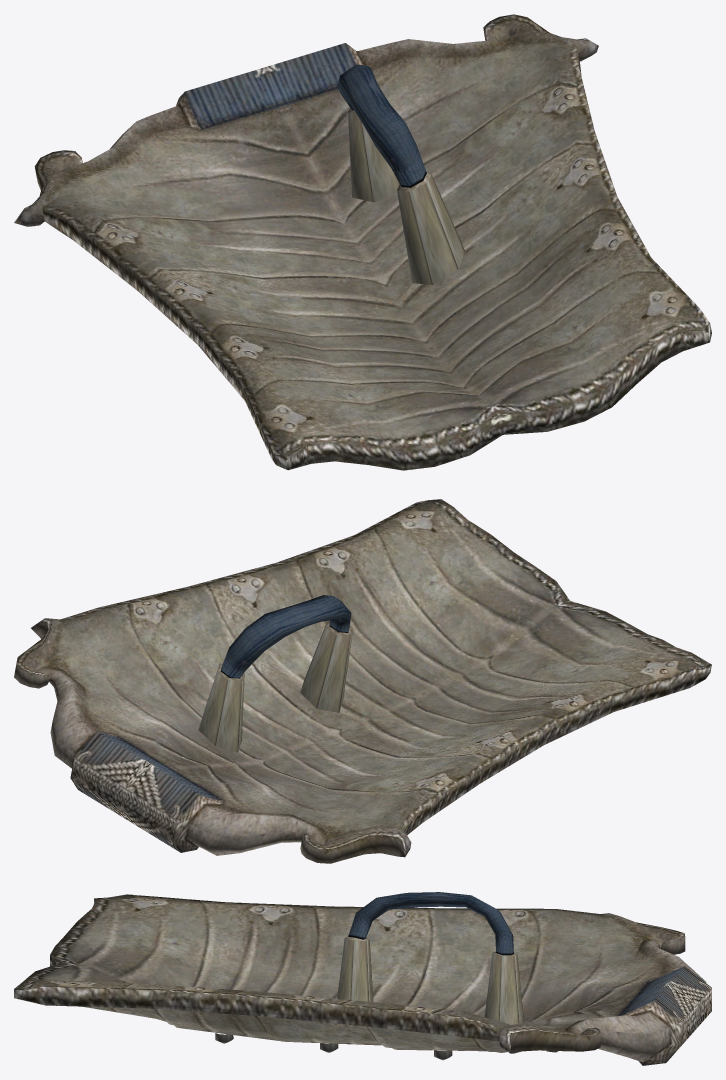
The model's file is s_steelshield.glb.
3 views of the same model, one above another, from view 1: azimuth 30°, elevation 25°; view 2: azimuth 150°, elevation 25°; view 3: azimuth 270°, elevation 25° (orthographic). The views are drawn at different scales.
Visible parts, largest first — view 1: Shield:2; view 2: Shield:2; view 3: Shield:2.
Boxes of the visible parts, x1,y1,x2,y2 form: Shield:2: (14,14,711,470); Shield:2: (14,499,711,863); Shield:2: (14,892,711,1065).
Bounding box in the file's own units: 36.49 × 12.96 × 47.06.
1 material, 1 textured.
